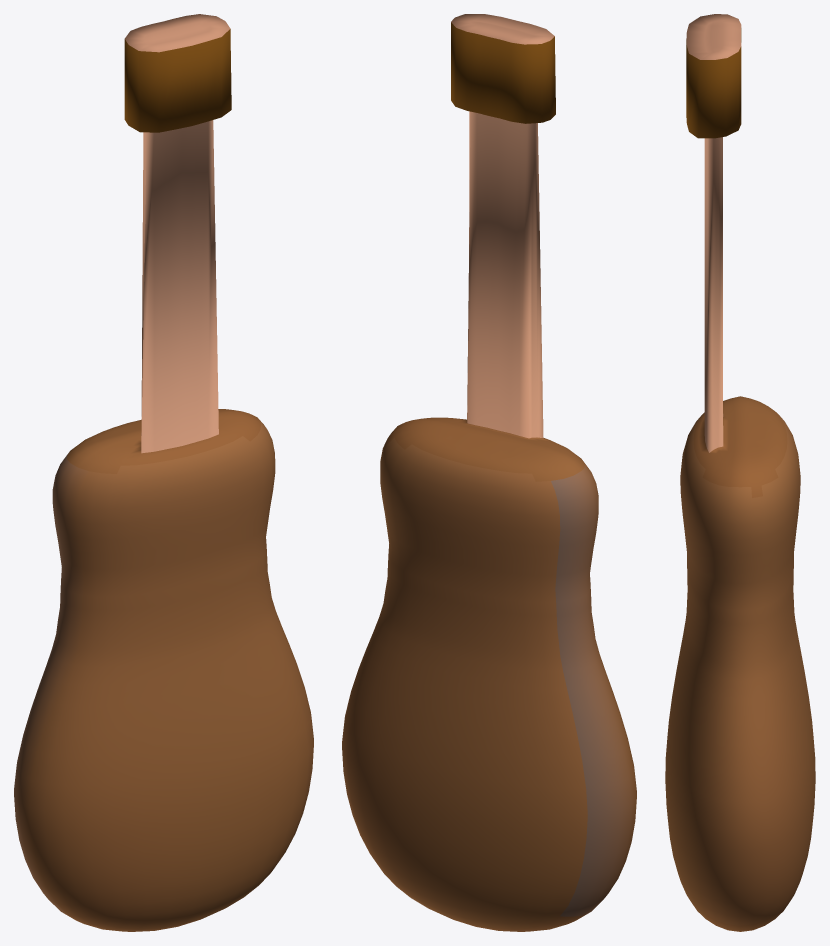
The model's file is GuitarBatex.fbx.
The picture shows the model from 3 angles, left to right: view 1: azimuth 30°, elevation 25°; view 2: azimuth 150°, elevation 25°; view 3: azimuth 270°, elevation 25°; orthographic projection. The views are drawn at different scales.
Visible parts, largest first — view 1: GuitarBatex; view 2: GuitarBatex; view 3: GuitarBatex.
Boxes of the visible parts, x1,y1,x2,y2 form: GuitarBatex: [14, 14, 313, 931]; GuitarBatex: [342, 14, 636, 931]; GuitarBatex: [665, 14, 815, 931].
Bounding box in the file's own units: 128 × 382 × 59.3.
